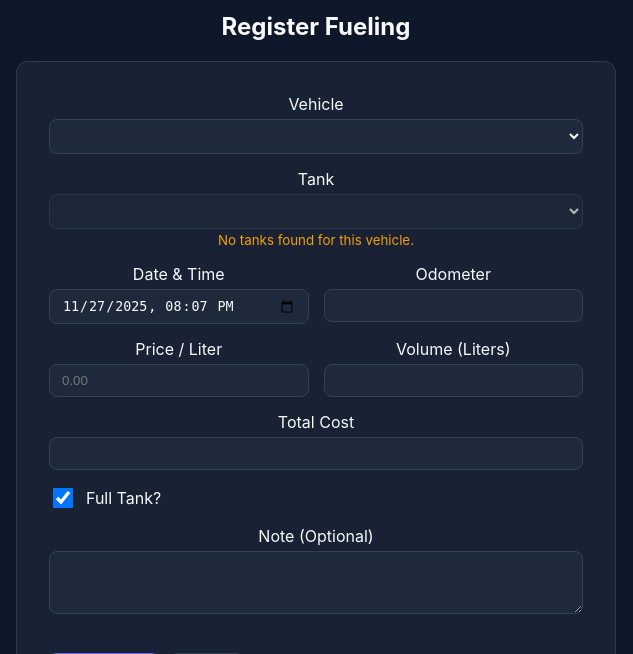
it: FuelingForm › calculates total cost
Type "50" into the number field labelled "Volume (Liters)" at {"x": 453, "y": 381}, box x1=324 y1=364 x2=583 y2=397
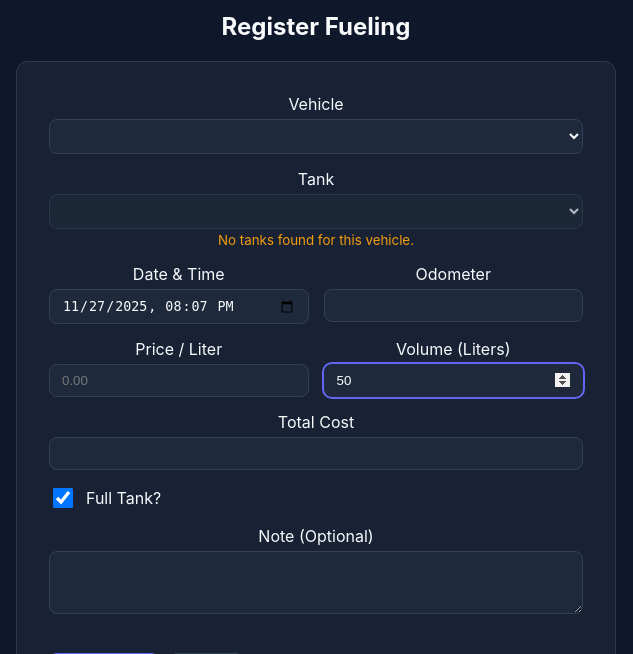
Type "2" into the number field labelled "Price / Liter" at {"x": 179, "y": 381}, box x1=49 y1=364 x2=308 y2=397
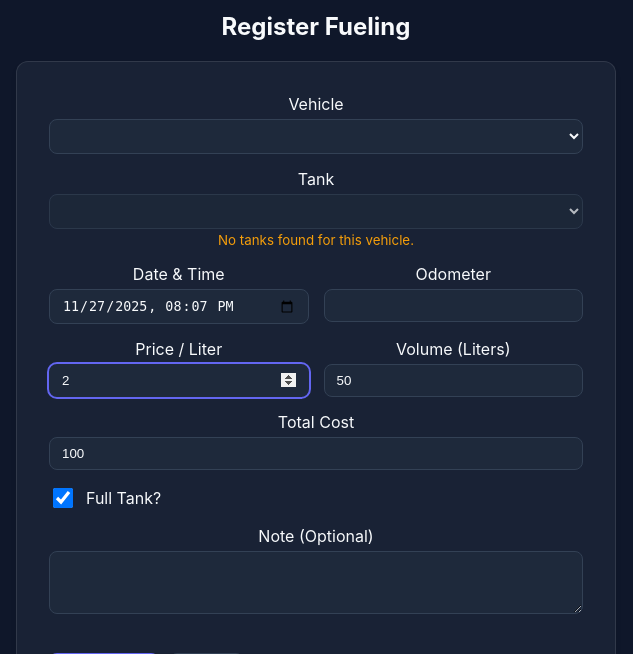
Result: the number field labelled "Total Cost" holds "100" at x1=49 y1=437 x2=583 y2=470
